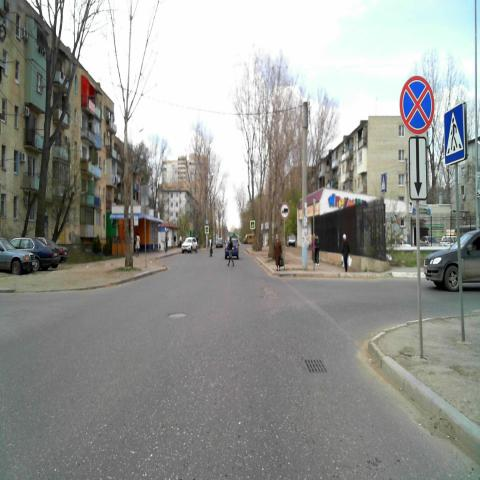8_2_3: (408, 134, 428, 199)
